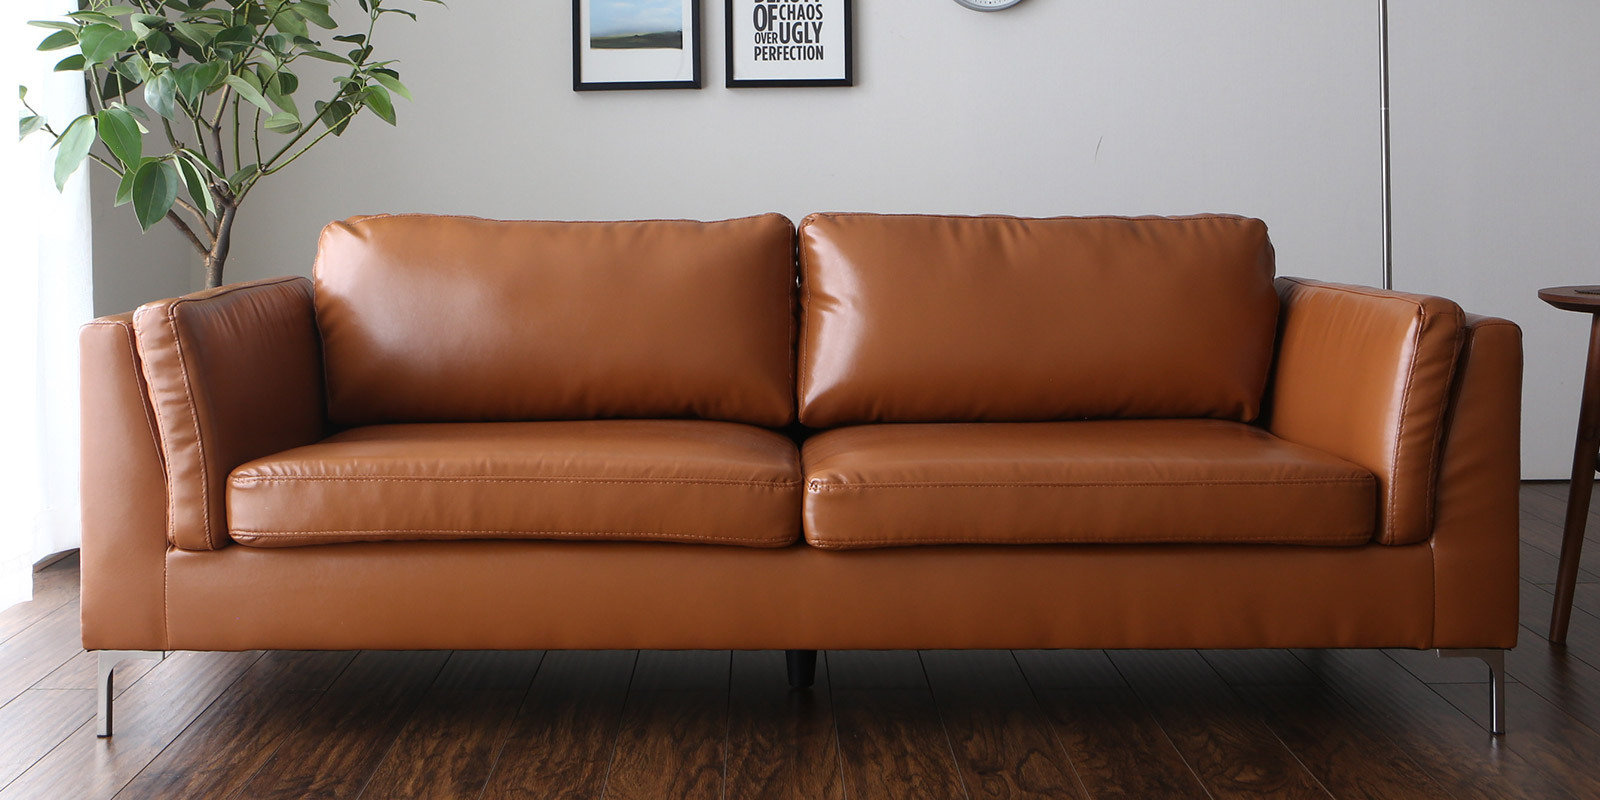Forma Three Seater Sofa in Camel Colour by Zofa: (53, 192, 1544, 763)
